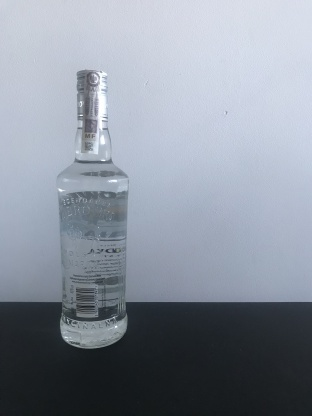nakretka: (74, 65, 111, 125)
